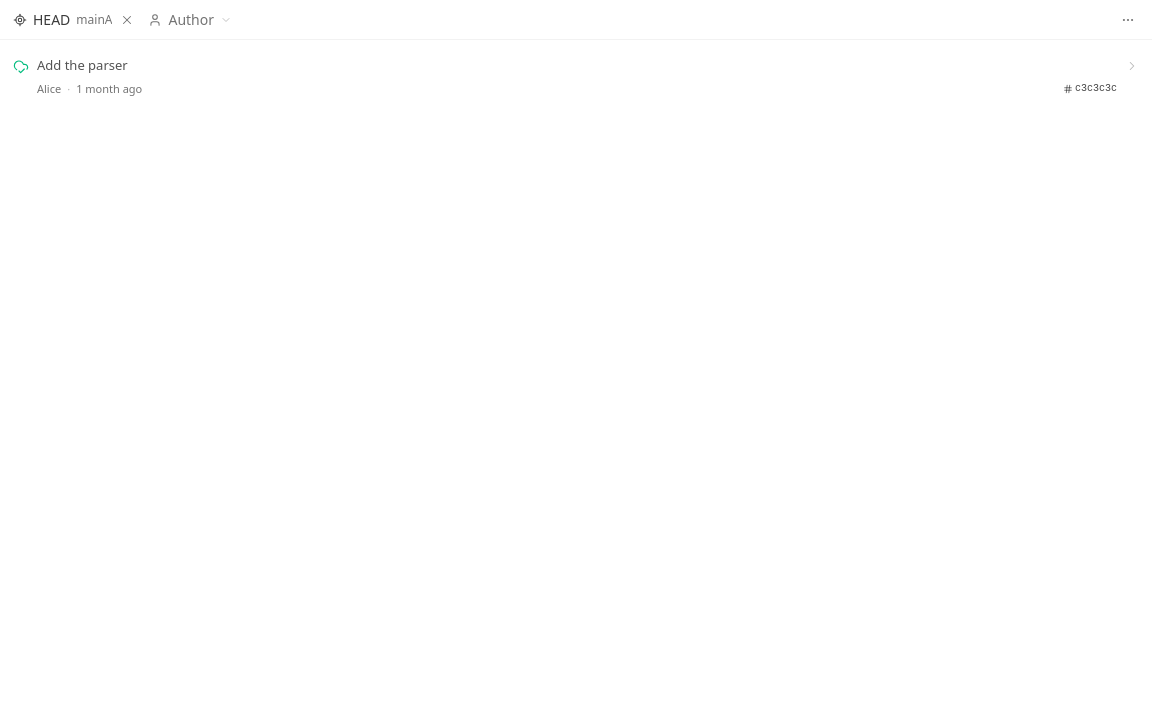
Commits tab branch query › reloads the HEAD view after switching to a branch made from a commit
expect the text "mainA" is shown: met, box [76,12,112,28]
Right-click the text "Add the parser" at (82, 65), box [37,56,128,74]
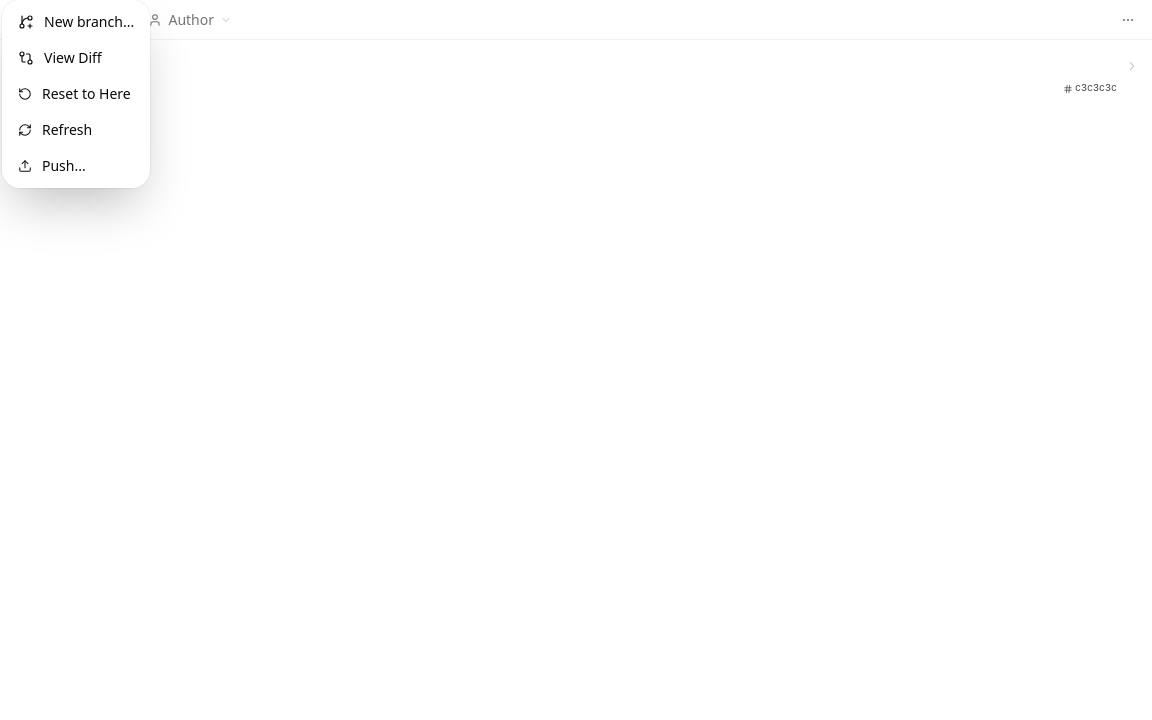
Click the menu item "New branch..." at (76, 22), box [18,12,134,31]
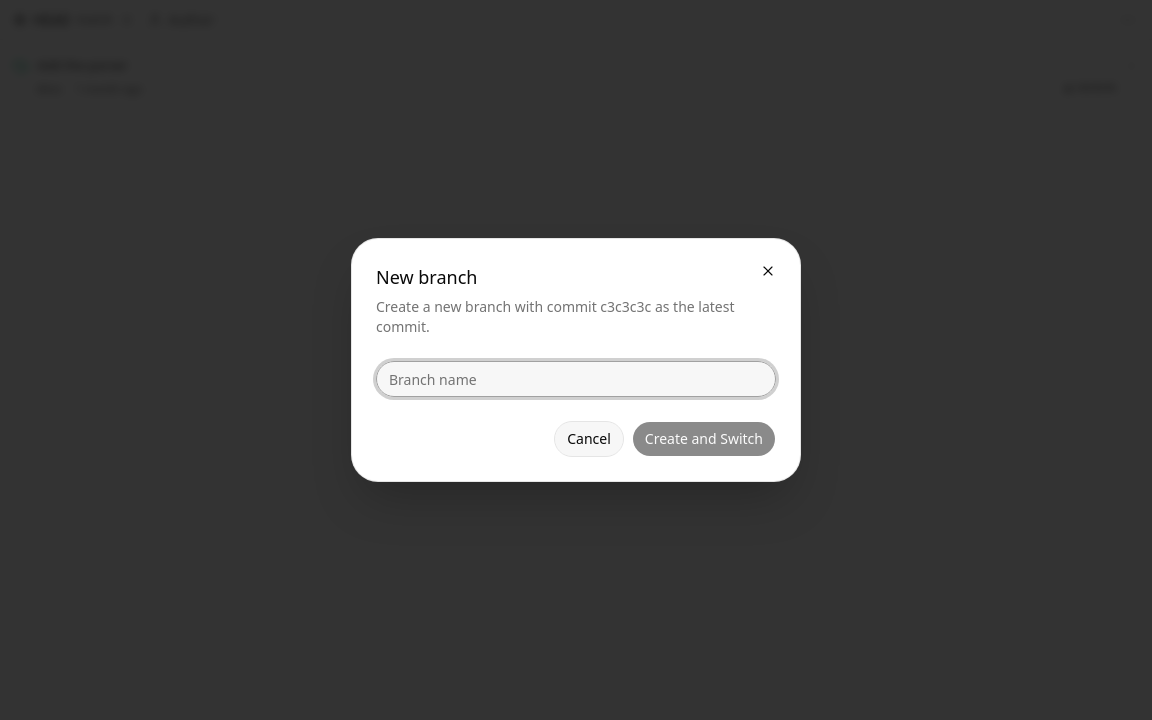
Type "fix" into the field with placeholder "Branch name" at (576, 379), box [376,361,776,397]
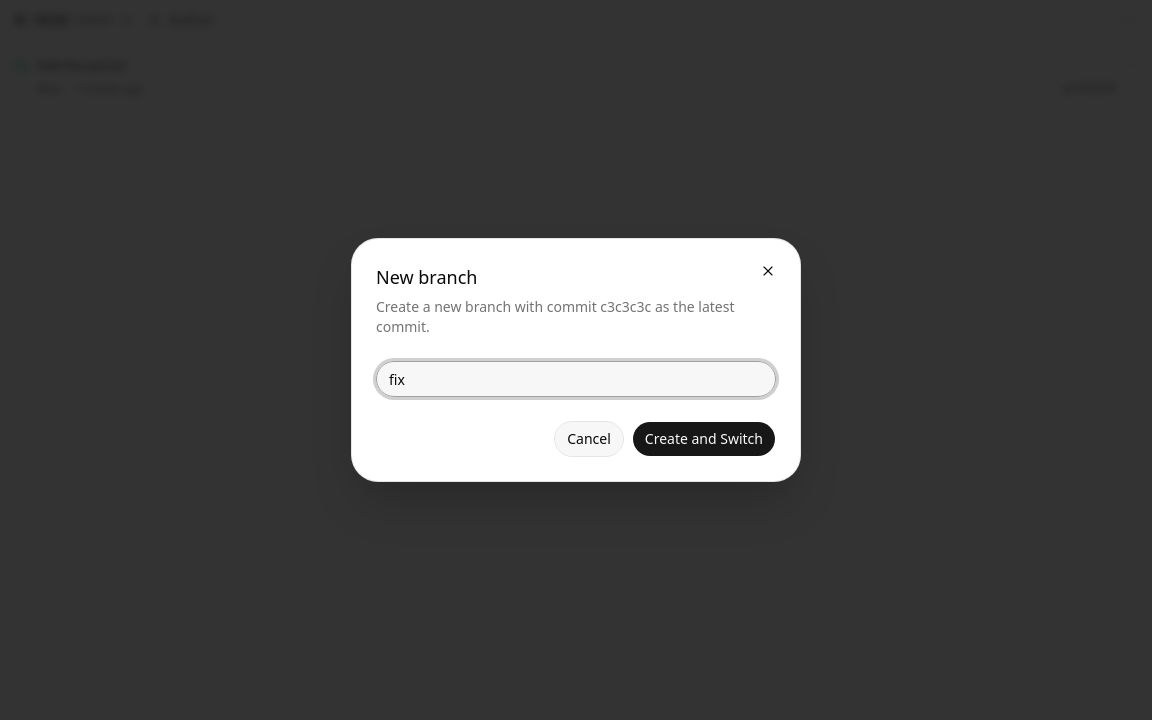
Click the button "Create and Switch" at (704, 439), box [632,421,776,457]
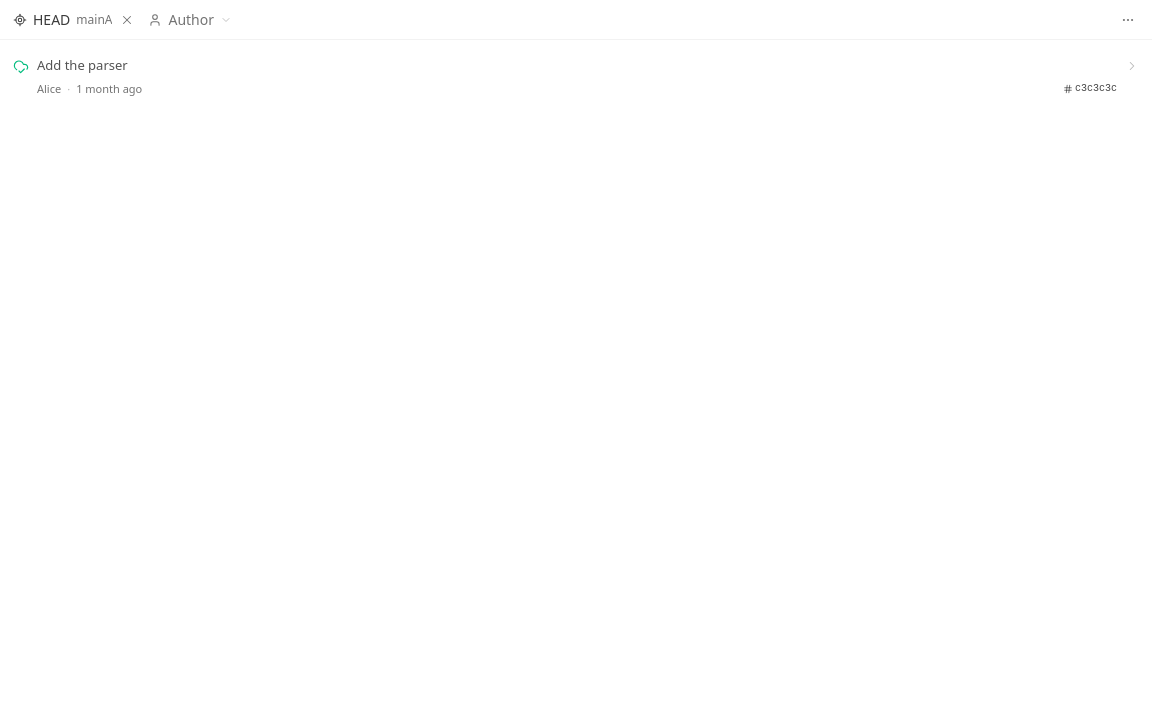
expect the dialog is gone: met
